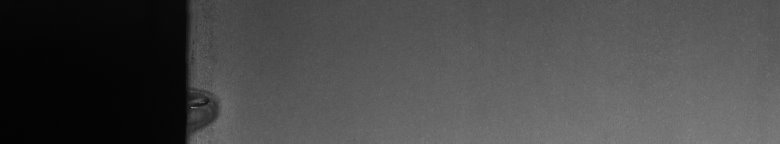hb: (196, 80, 228, 136)
